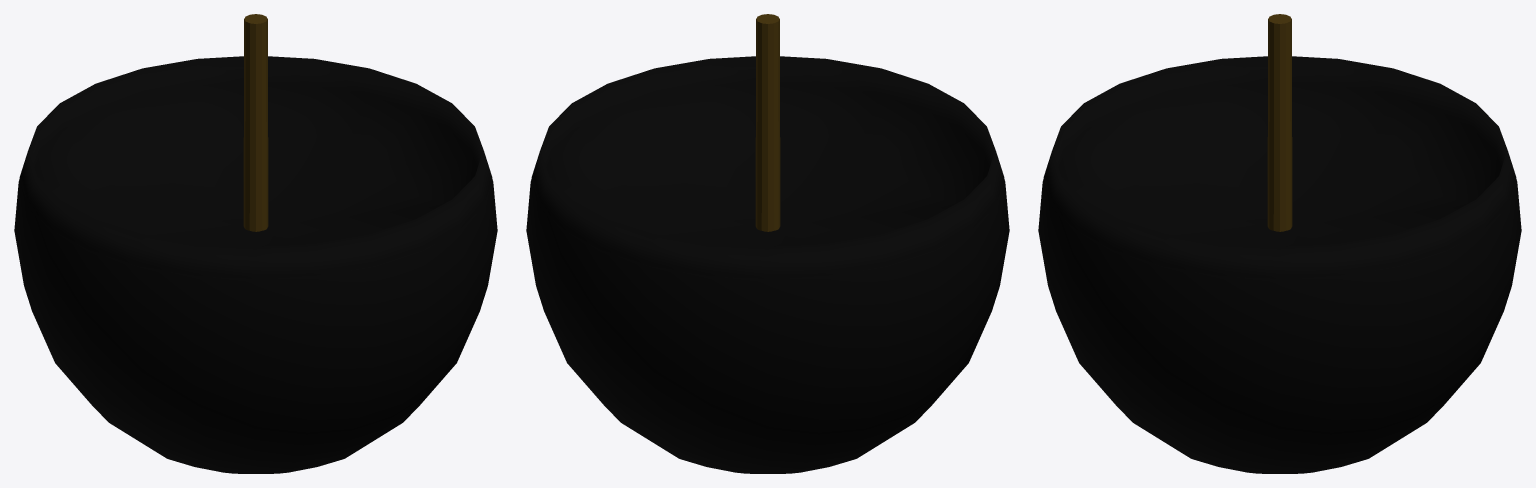
File: tippetopfull.DAE
3 renders of one model, left to right at view 1: azimuth 30°, elevation 25°; view 2: azimuth 150°, elevation 25°; view 3: azimuth 270°, elevation 25°, orthographic.
Parts seen in each view (by area): view 1: FBXASC051dSolid_ncl1_2, FBXASC051dSolid, FBXASC051dSolid_ncl1_1; view 2: FBXASC051dSolid_ncl1_2, FBXASC051dSolid, FBXASC051dSolid_ncl1_1; view 3: FBXASC051dSolid_ncl1_2, FBXASC051dSolid, FBXASC051dSolid_ncl1_1.
Boxes of the visible parts, box(x1,y1,x2,y2) form: FBXASC051dSolid_ncl1_2: box(19, 56, 492, 473); FBXASC051dSolid: box(14, 179, 497, 383); FBXASC051dSolid_ncl1_1: box(243, 14, 268, 231); FBXASC051dSolid_ncl1_2: box(531, 56, 1004, 473); FBXASC051dSolid: box(526, 179, 1009, 383); FBXASC051dSolid_ncl1_1: box(755, 14, 780, 231); FBXASC051dSolid_ncl1_2: box(1043, 56, 1516, 473); FBXASC051dSolid: box(1038, 179, 1521, 383); FBXASC051dSolid_ncl1_1: box(1267, 14, 1292, 231).
Bounding box in the file's own units: 0.074 × 0.0739 × 0.074.
